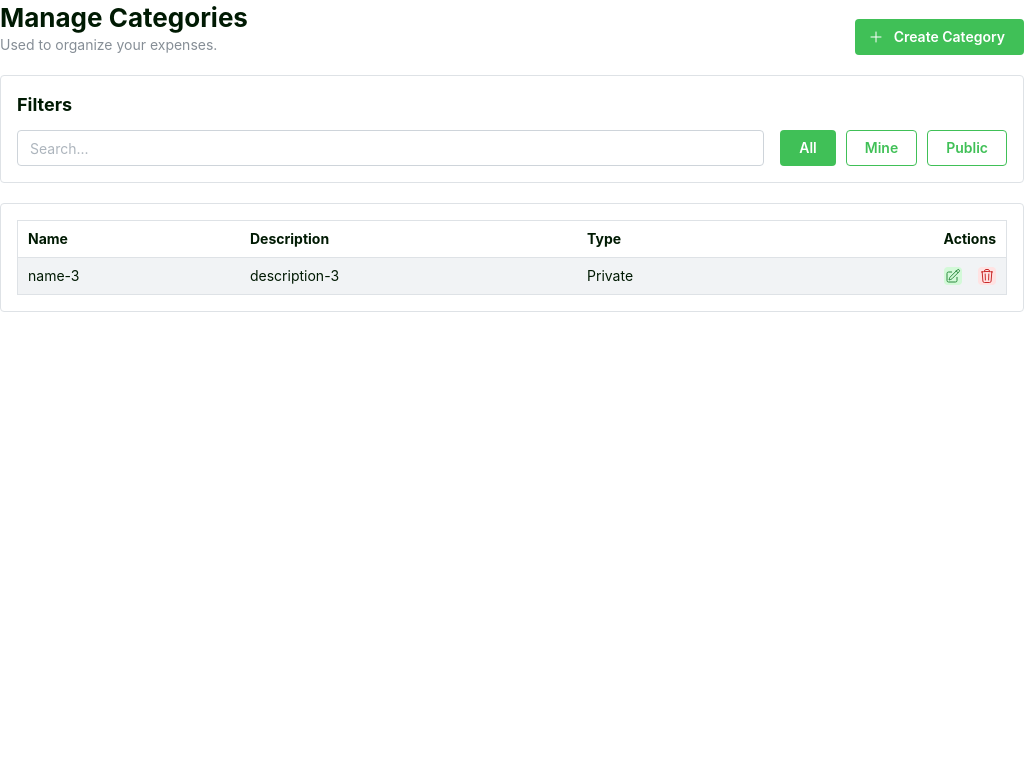
TableCategories › should SHOW (not validating integration) edit modal
Expected: the text "Private" is shown, [577,258,781,294]
Step 1. Click the button named "Pencil Square Icon" → click(953, 276), box [944,267,962,285]
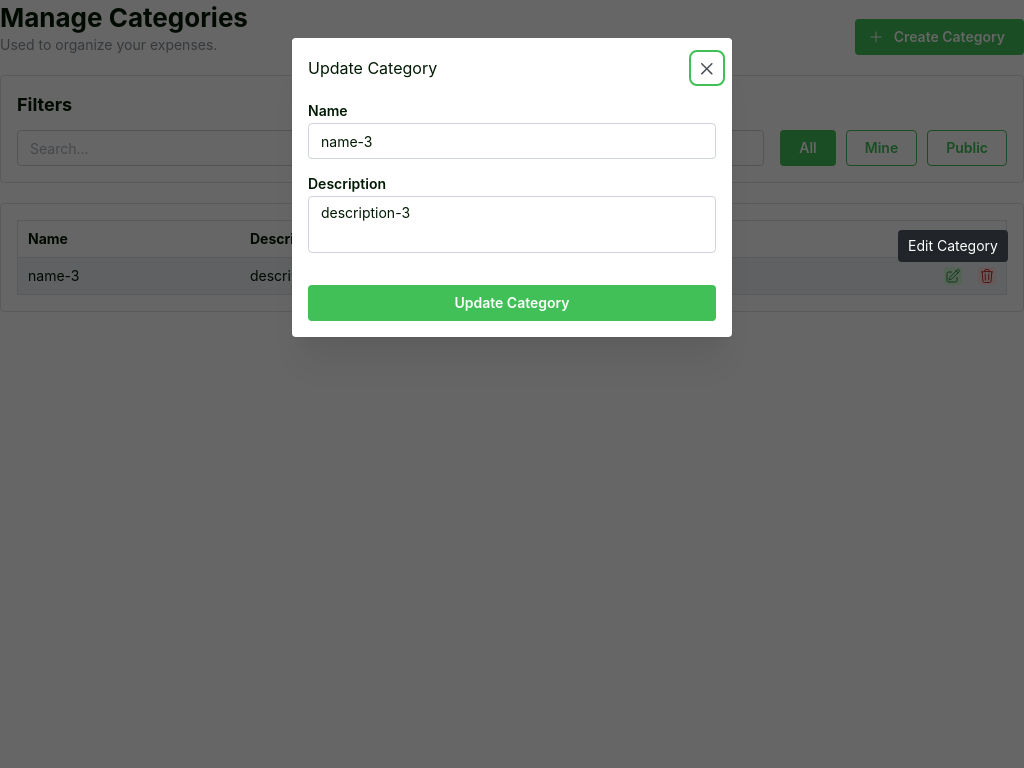
Now the element with test id "update-category" is shown, box [308,98,716,321]
